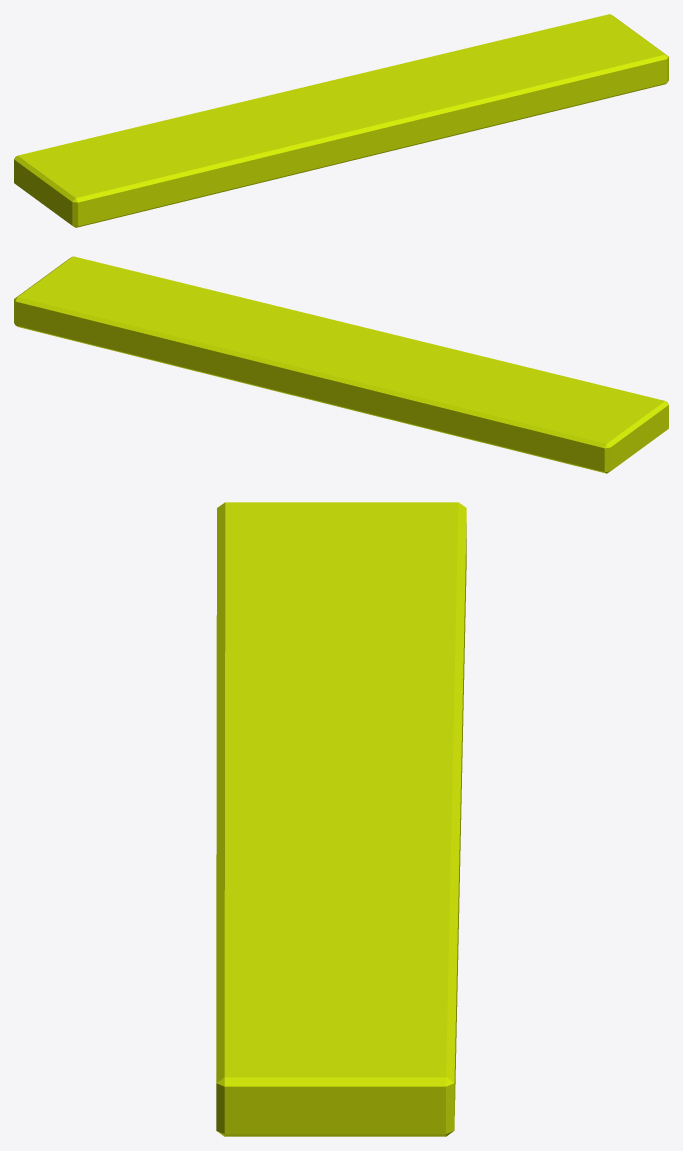
File: Inlane_Vert_Short.fbx
3 views of the same model, one above another, from view 1: azimuth 30°, elevation 25°; view 2: azimuth 150°, elevation 25°; view 3: azimuth 270°, elevation 25° (orthographic). The views are drawn at different scales.
Visible parts, largest first — view 1: Inlane_Vert_Short; view 2: Inlane_Vert_Short; view 3: Inlane_Vert_Short.
Boxes of the visible parts, bbox=[...] form: Inlane_Vert_Short: bbox=[14, 14, 668, 227]; Inlane_Vert_Short: bbox=[14, 256, 668, 473]; Inlane_Vert_Short: bbox=[216, 502, 466, 1136].
Size of the model in its own units: 5.82 by 0.2776 by 1.06.
